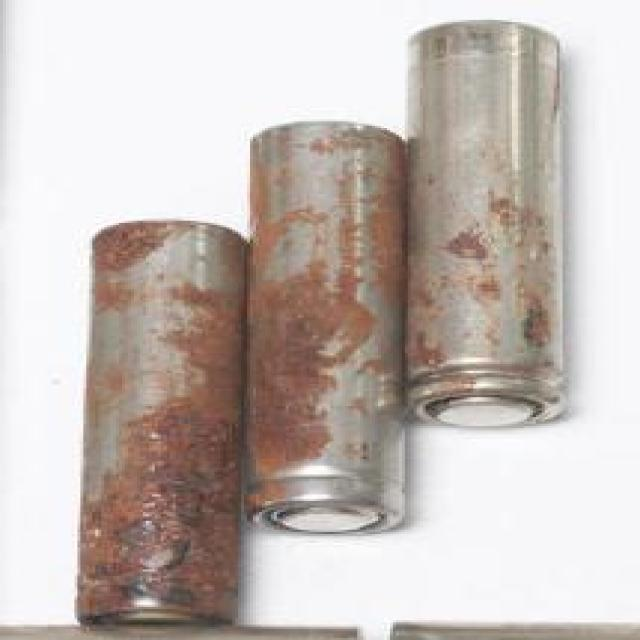-Hazardous waste - battery-: (401, 17, 567, 430), (76, 219, 245, 624), (248, 119, 406, 537)
